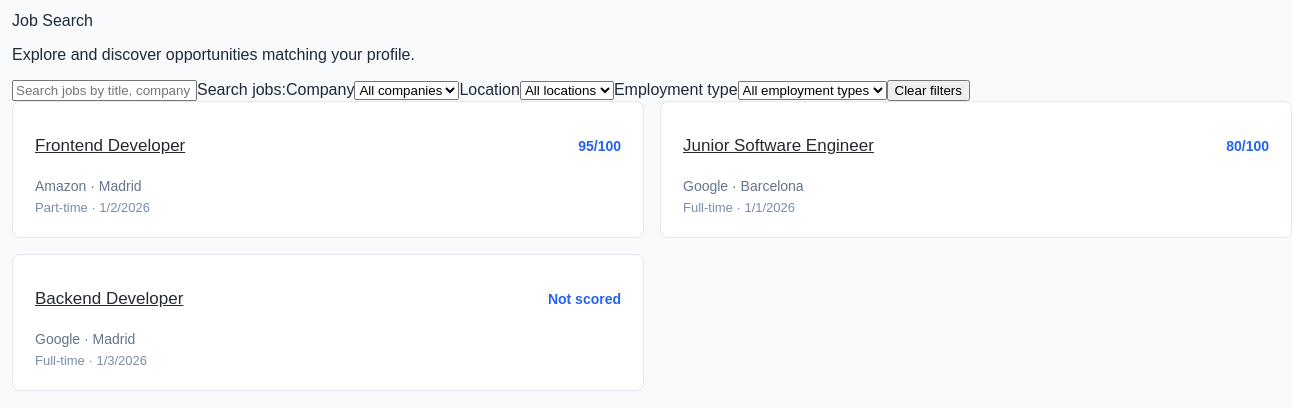
Test: JobSearch › filters jobs by company
expect the link "Junior Software Engineer" is shown: met, box [683,136,874,156]
Select "Amazon" in the dropdown labelled "Company" at (407, 90), box [354,81,459,100]
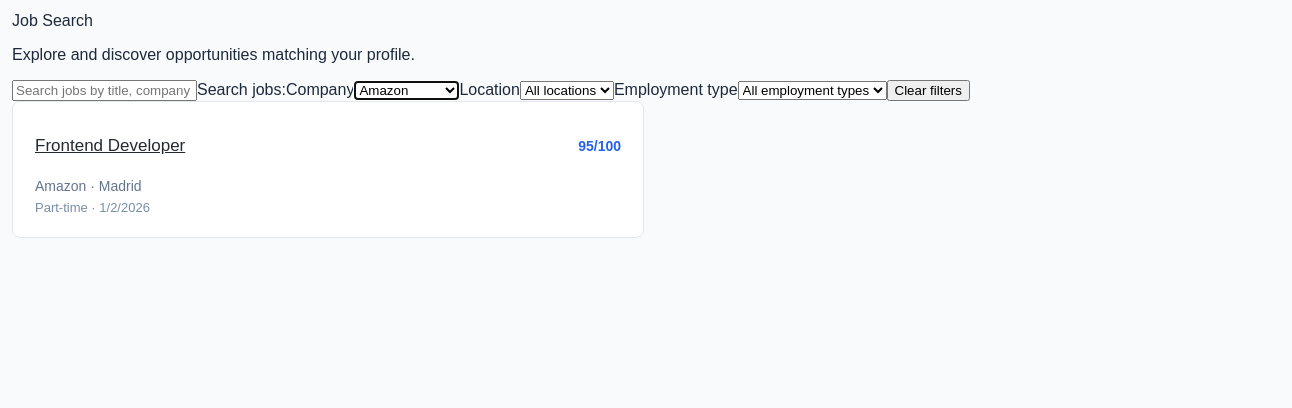
expect the link "Frontend Developer" is shown: met, box [35,136,185,156]
expect the link "Junior Software Engineer" is gone: met
expect the link "Backend Developer" is gone: met
